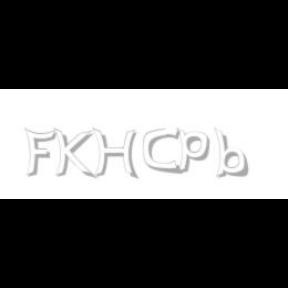C: (144, 128, 180, 174)
F: (24, 128, 56, 178)
H: (92, 128, 138, 180)
K: (53, 128, 93, 180)
b: (214, 128, 252, 178)
p: (177, 128, 214, 174)
